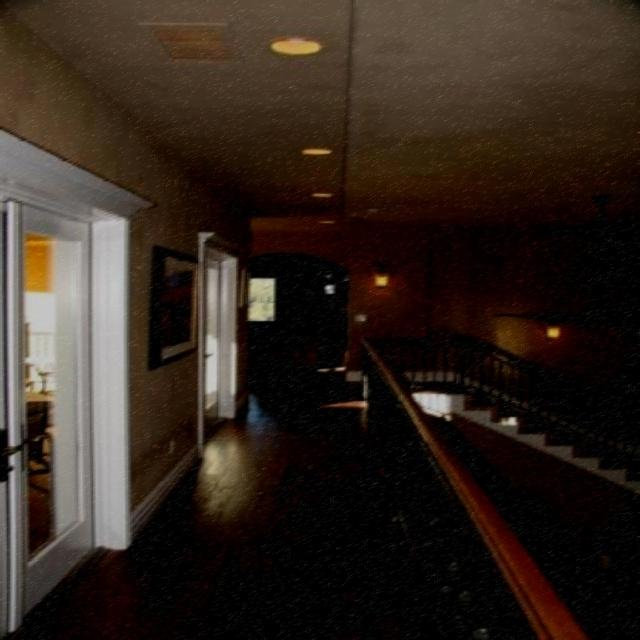stair: (425, 379, 640, 498)
